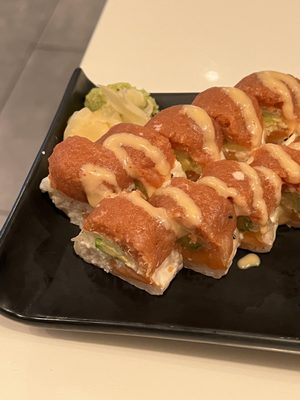soup: (71, 190, 184, 296)
